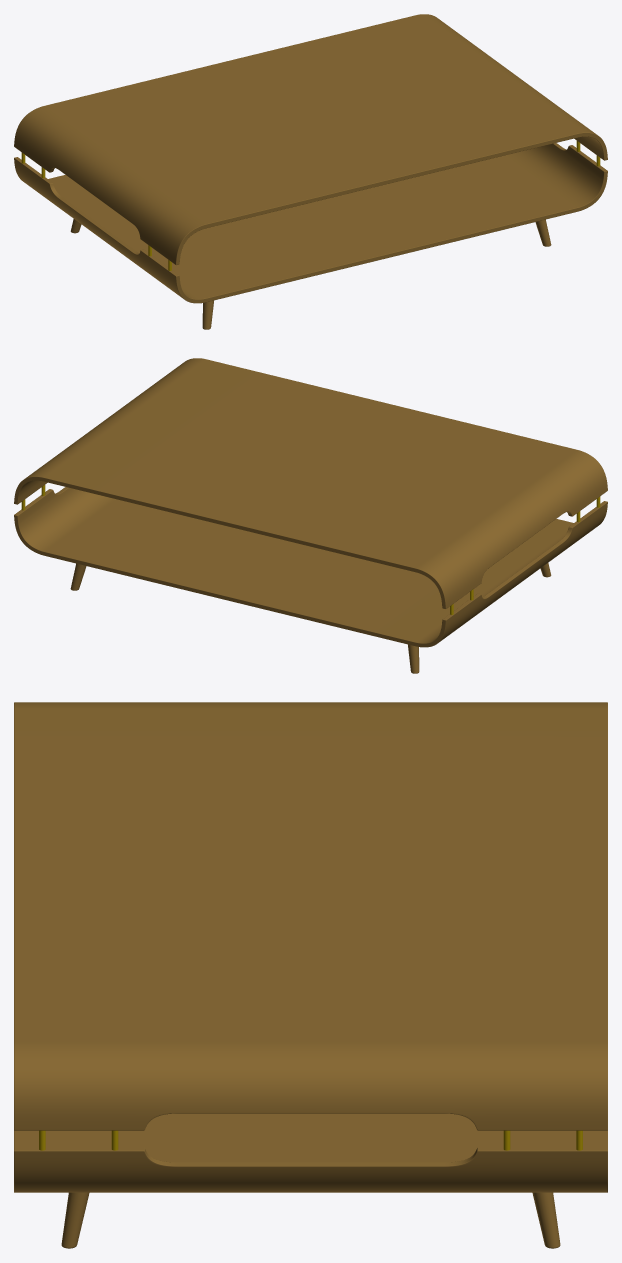
The model's file is retro_table.fbx.
3 renders of one model, top to bottom at view 1: azimuth 30°, elevation 25°; view 2: azimuth 150°, elevation 25°; view 3: azimuth 270°, elevation 25°, orthographic. The views are drawn at different scales.
Visible parts, largest first — view 1: RetroTable01_low_RT; view 2: RetroTable01_low_RT; view 3: RetroTable01_low_RT.
Part boxes in pixels (bbox=[...]): RetroTable01_low_RT: bbox=[14, 14, 607, 329]; RetroTable01_low_RT: bbox=[14, 358, 607, 673]; RetroTable01_low_RT: bbox=[14, 702, 607, 1248].
Bounding box in the file's own units: 113 × 29.58 × 73.24.
